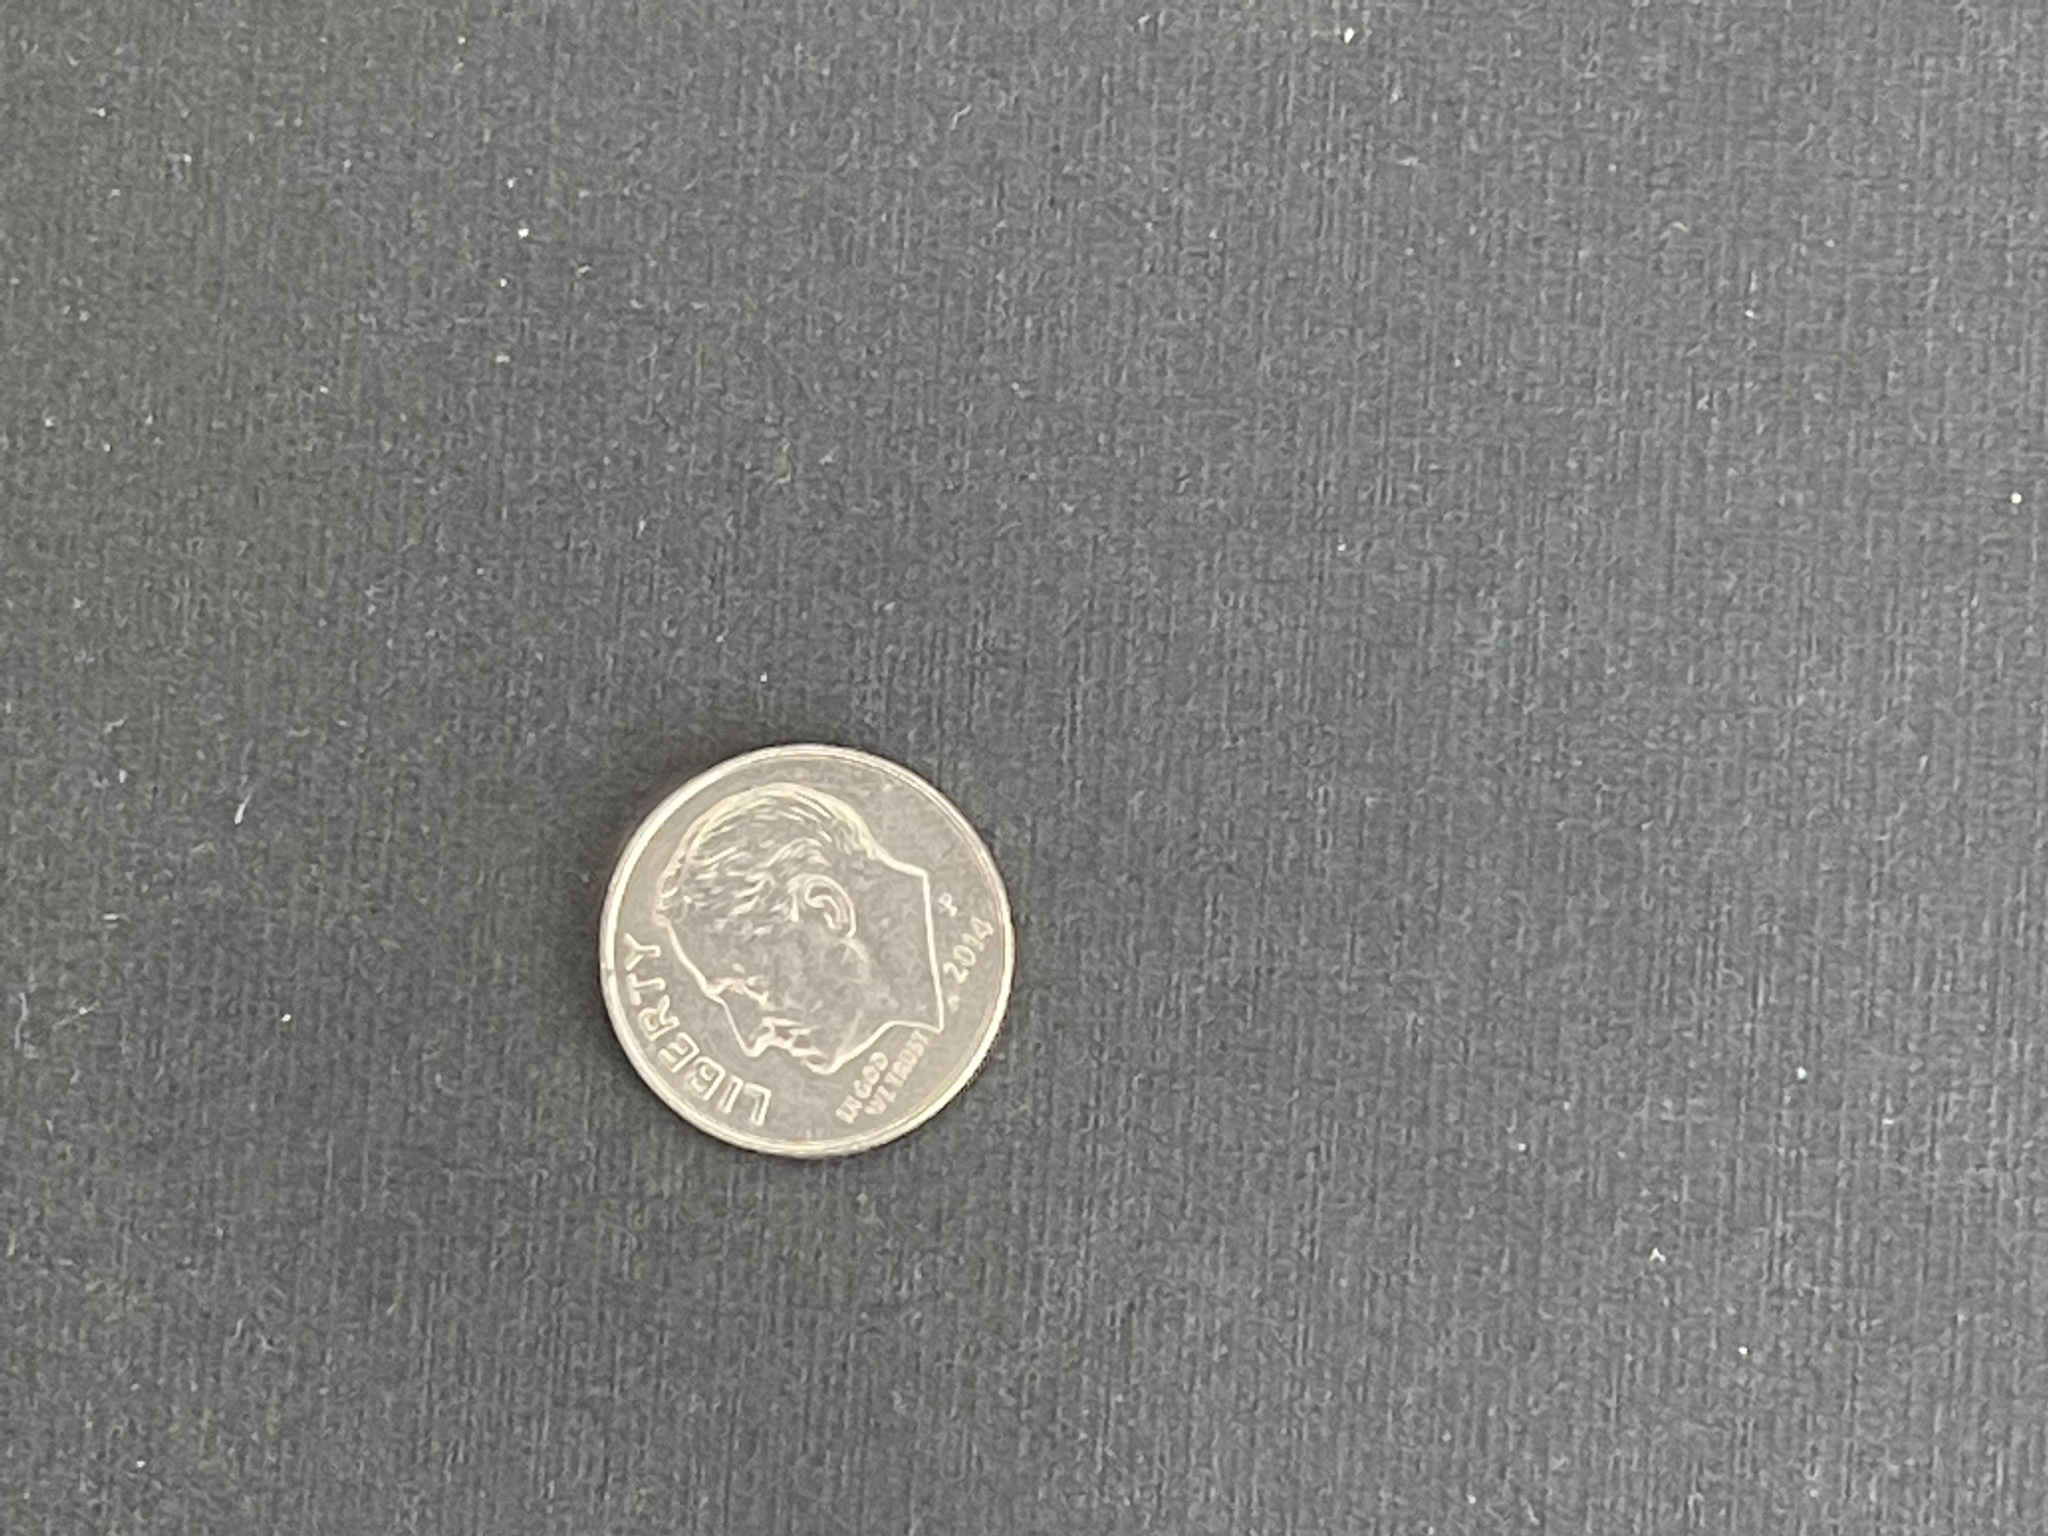dime: (590, 739, 1026, 1168)
